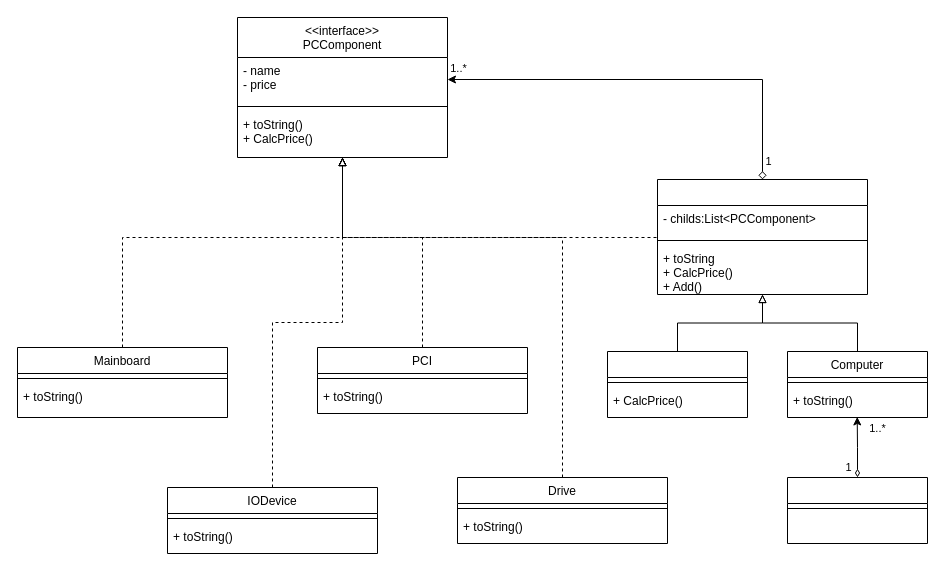
The diagram is 945 pixels wide and 574 high, and some of its shapes have lost their labels. Each missing label, with the box of its shape:
Cabinet: (606, 350, 748, 418)
Composite: (656, 178, 868, 294)
Inventory: (786, 476, 928, 544)
